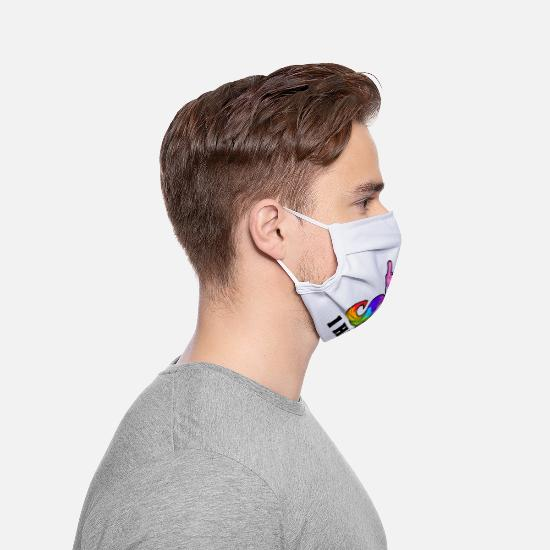with_mask: (294, 157, 403, 350)
